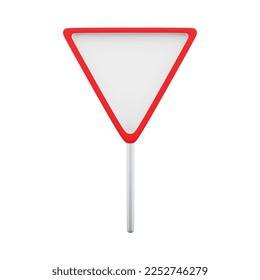Give Way: (60, 16, 207, 138)
